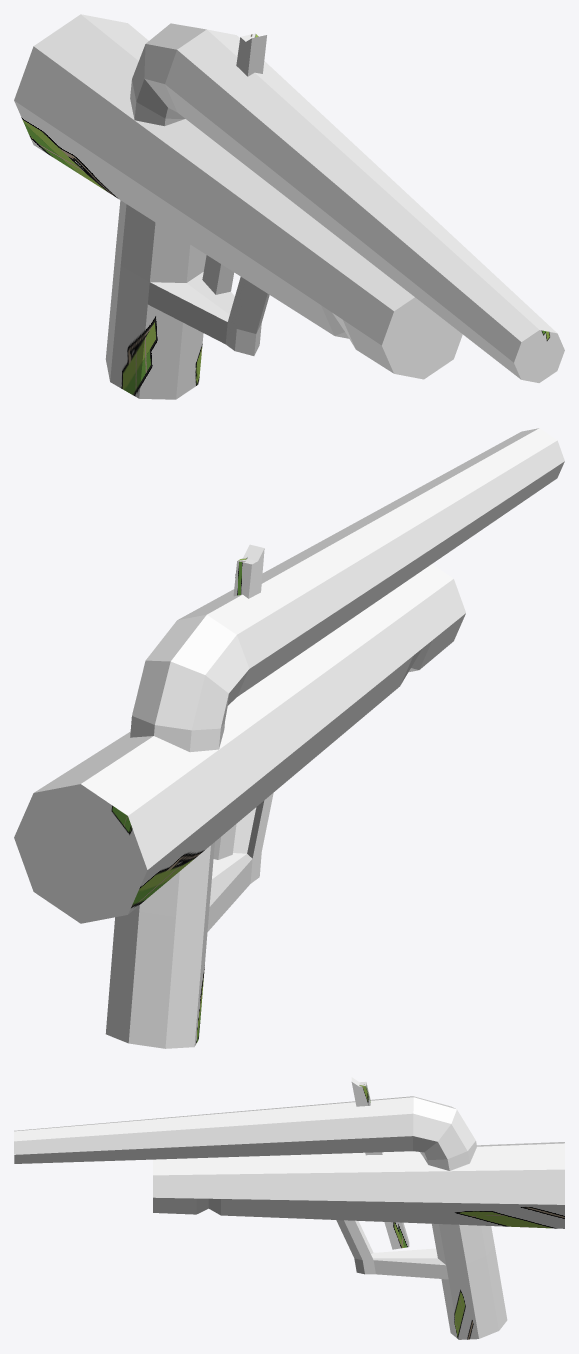
The model's file is double pistol.fbx.
The picture shows the model from 3 angles, top to bottom: view 1: azimuth 30°, elevation 25°; view 2: azimuth 150°, elevation 25°; view 3: azimuth 270°, elevation 25°; orthographic projection. The views are drawn at different scales.
Parts seen in each view (by area): view 1: Cylinder; view 2: Cylinder; view 3: Cylinder.
Boxes of the visible parts, x1=… form: Cylinder: x1=14, y1=14, x2=564, y2=399; Cylinder: x1=14, y1=428, x2=564, y2=1048; Cylinder: x1=14, y1=1077, x2=564, y2=1339.
Size of the model in its own units: 316 by 958 by 1882.
